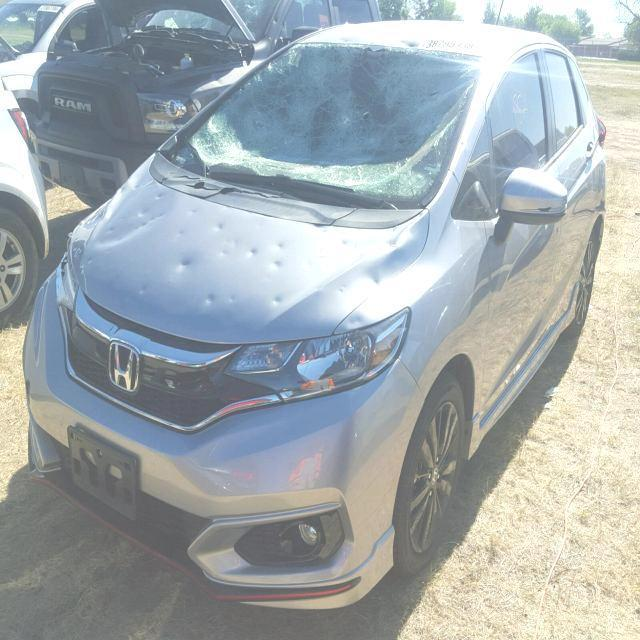minor: (104, 165, 173, 234), (222, 243, 288, 281), (191, 292, 267, 319), (270, 287, 316, 313), (182, 210, 215, 237), (176, 250, 202, 280), (339, 234, 380, 250), (213, 222, 225, 230)
moderate: (332, 234, 424, 285)
severe: (175, 42, 487, 205)
